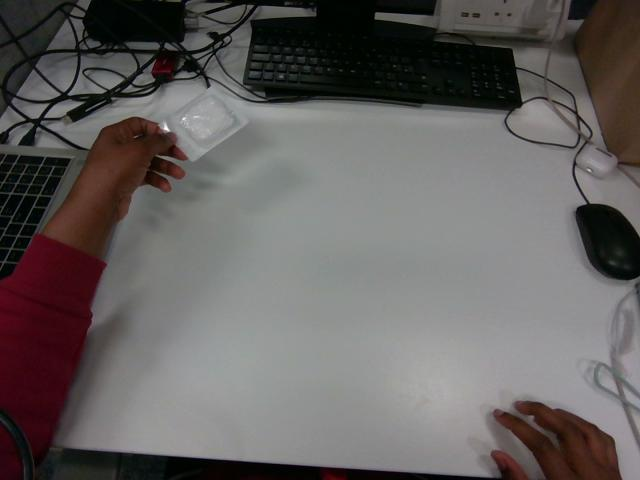gauze: (159, 87, 247, 160)
